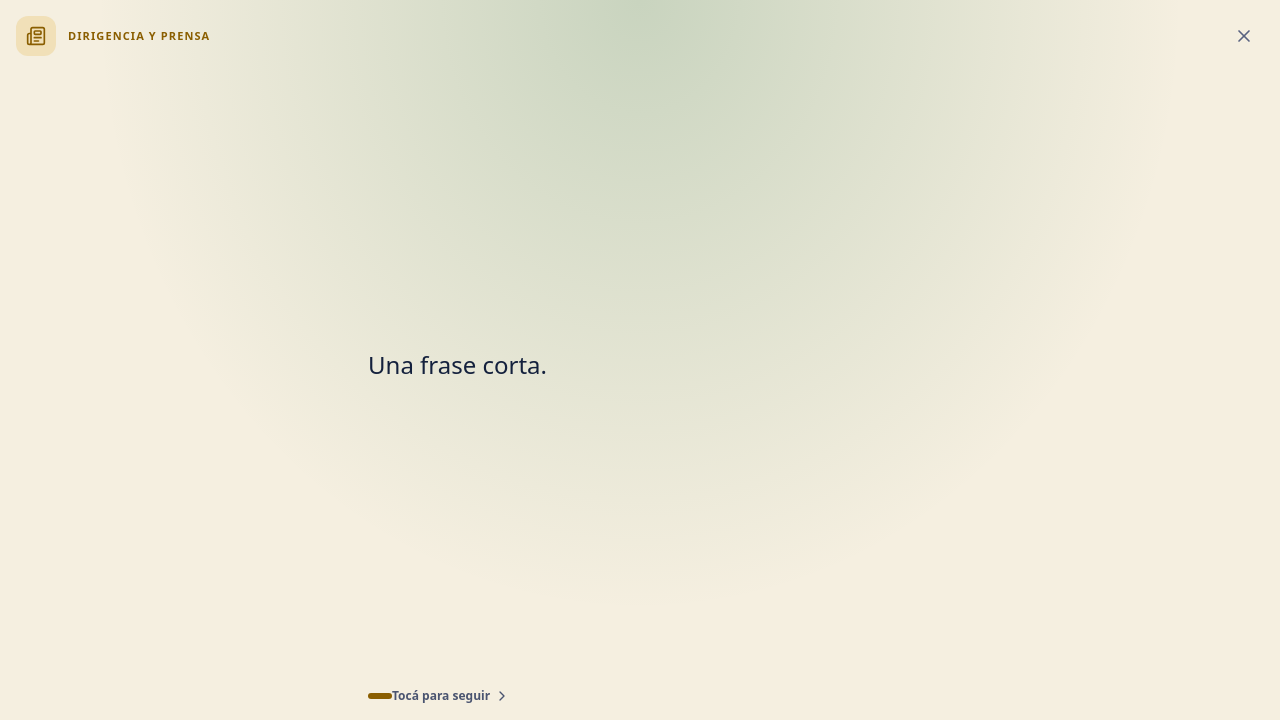
Test: en la pantalla completa › un evento de BOARD_PRESS propone su minijuego propio (HEADLINE)
Click the button with aria-label "Seguir leyendo". click: (640, 384)
box: [368,64,912,704]
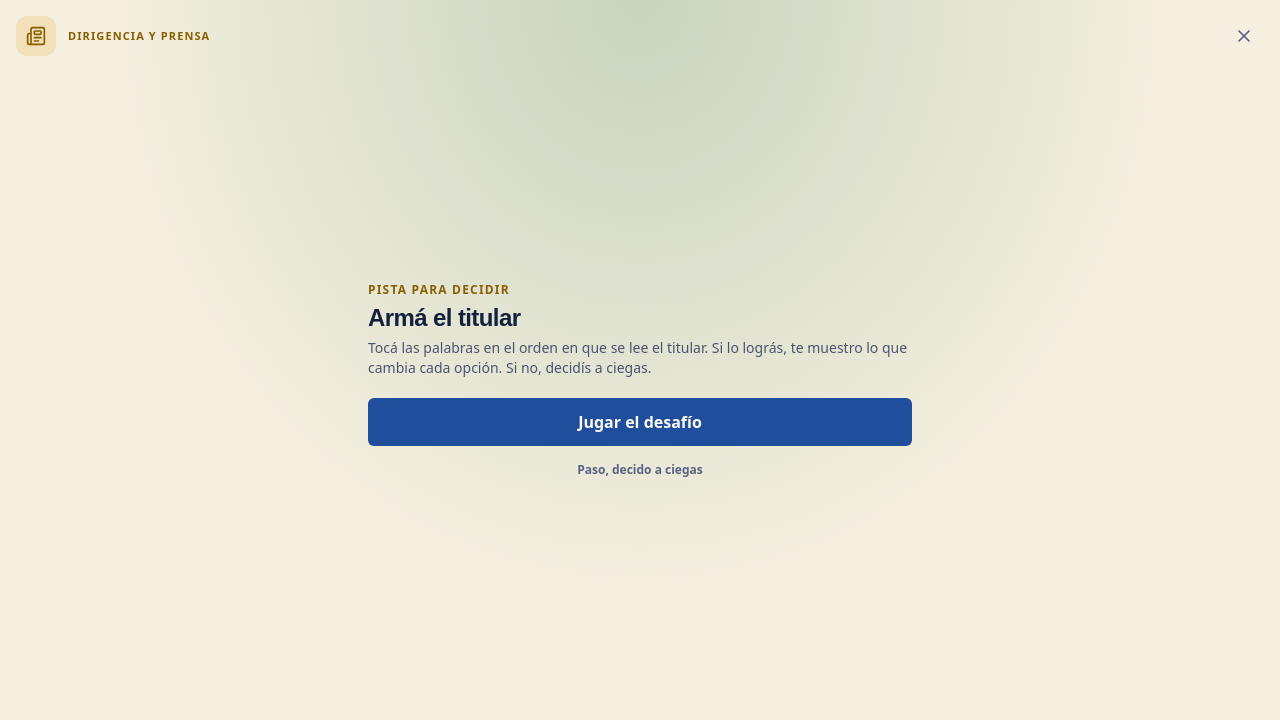
Check: the heading "Armá el titular" is shown, box [368,304,520,331]
Check: the button "Jugar el desafío" is shown, box [368,398,912,446]
